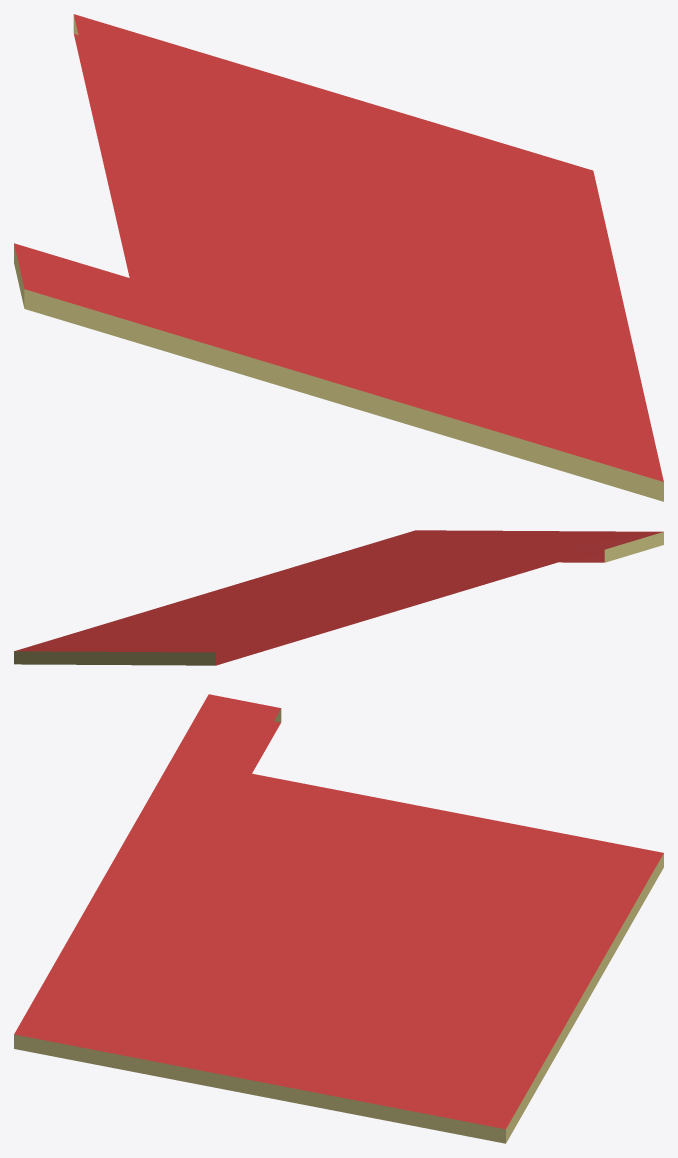
The picture shows the model from 3 angles, top to bottom: view 1: azimuth 30°, elevation 25°; view 2: azimuth 150°, elevation 25°; view 3: azimuth 270°, elevation 25°; orthographic projection. The views are drawn at different scales.
Bounding box in the file's own units: 4.08 × 4.08 × 1.21.
